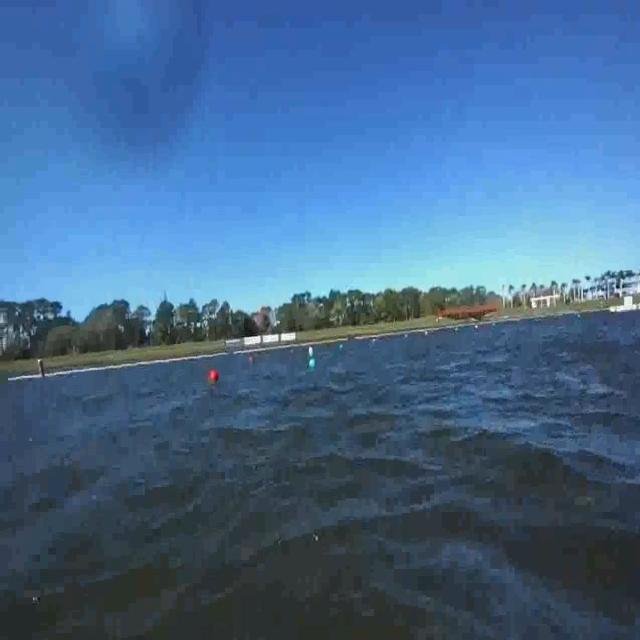green-buoy: (310, 357, 317, 374)
red-buoy: (210, 368, 220, 382)
